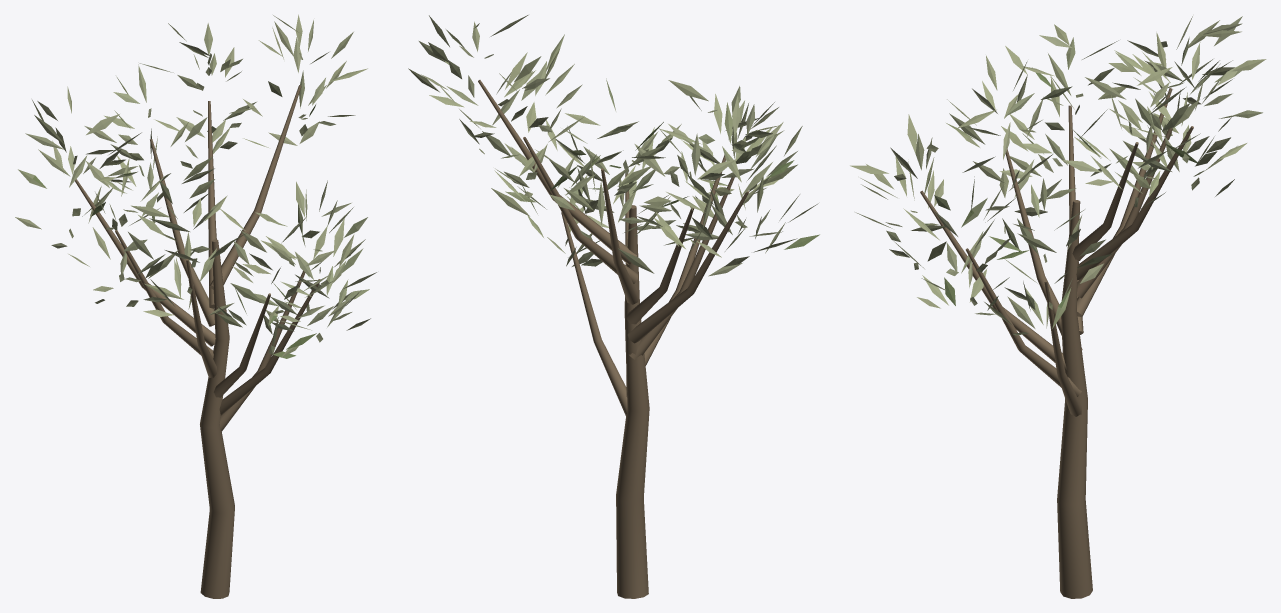
Rendered from mobile.glb.
The picture shows the model from 3 angles, left to right: view 1: azimuth 30°, elevation 25°; view 2: azimuth 150°, elevation 25°; view 3: azimuth 270°, elevation 25°; orthographic projection. The views are drawn at different scales.
Size of the model in its own units: 1.62 by 2.45 by 1.6.
Materials: 1 (1 with a texture image).
